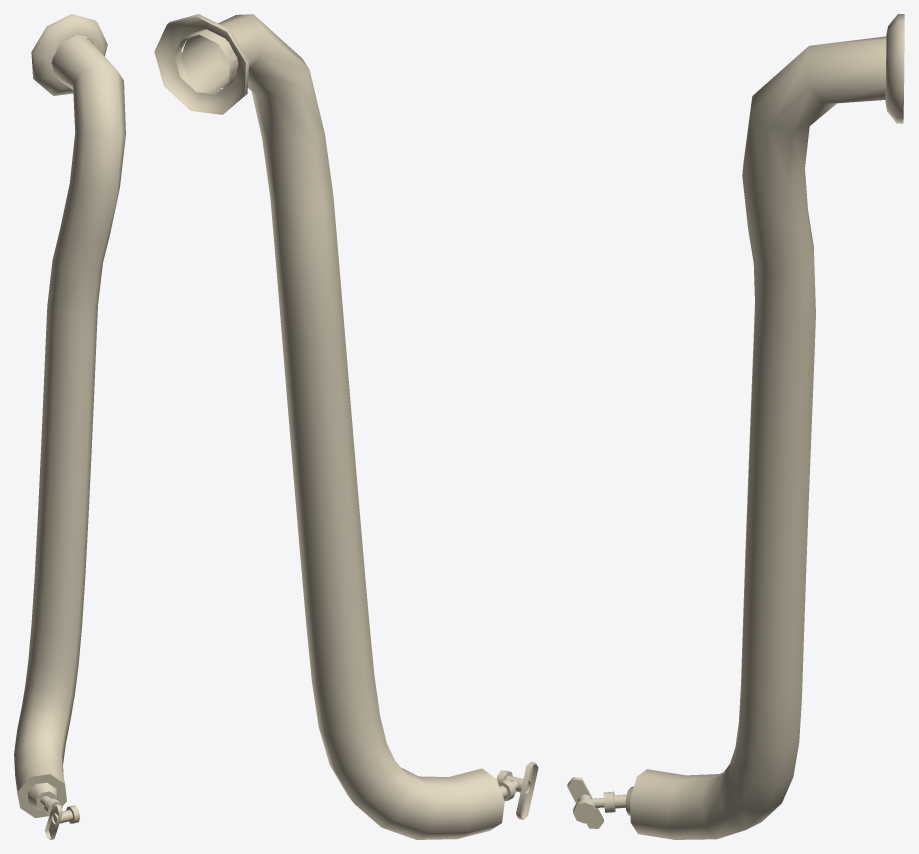
Rendered from Air_Conditioning_Pipe_A_Snaps004.FBX.
3 views of the same model, side by side, from view 1: azimuth 30°, elevation 25°; view 2: azimuth 150°, elevation 25°; view 3: azimuth 270°, elevation 25° (orthographic). The views are drawn at different scales.
Parts seen in each view (by area): view 1: Geometry_Air_Conditioning_Pipe_LOD00; view 2: Geometry_Air_Conditioning_Pipe_LOD00; view 3: Geometry_Air_Conditioning_Pipe_LOD00.
Boxes of the visible parts, box(x1,y1,x2,y2) form: Geometry_Air_Conditioning_Pipe_LOD00: box(14, 14, 125, 839); Geometry_Air_Conditioning_Pipe_LOD00: box(154, 14, 538, 839); Geometry_Air_Conditioning_Pipe_LOD00: box(567, 14, 904, 839).
Size of what is drawn, in the model's own units: 23.6 by 85.46 by 29.19.
